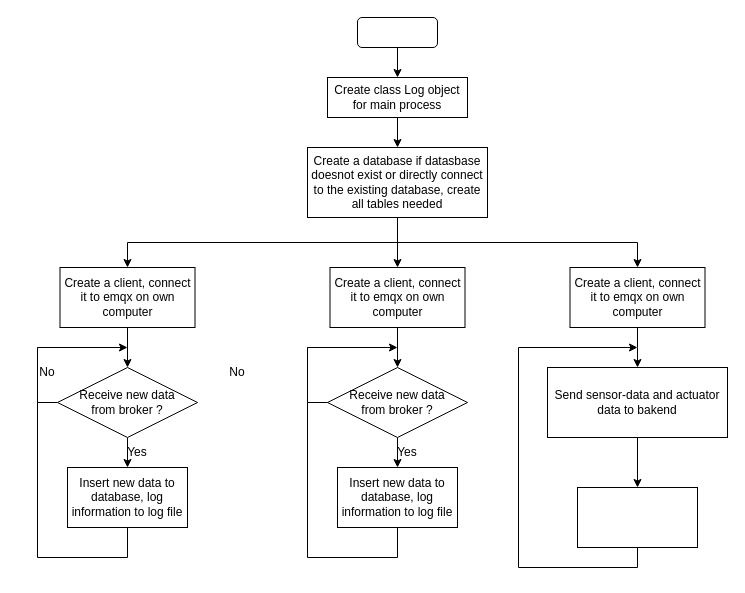
This 745x593 diagram has some shape labels left out. The shapes that lost their labels are listed below. From the top down, each one's centre as x and y in pixels, then its label:
At point 397,32: "Start".
At point 637,517: "wait 2 seconds".
